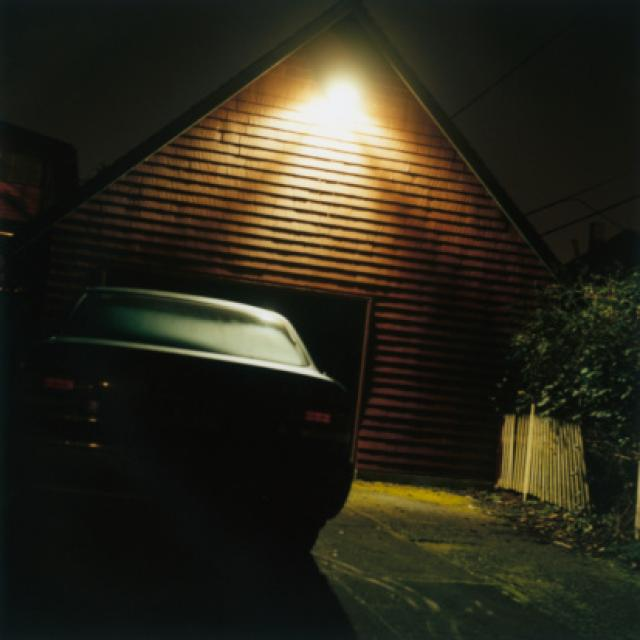Car: (76, 234, 424, 618)
